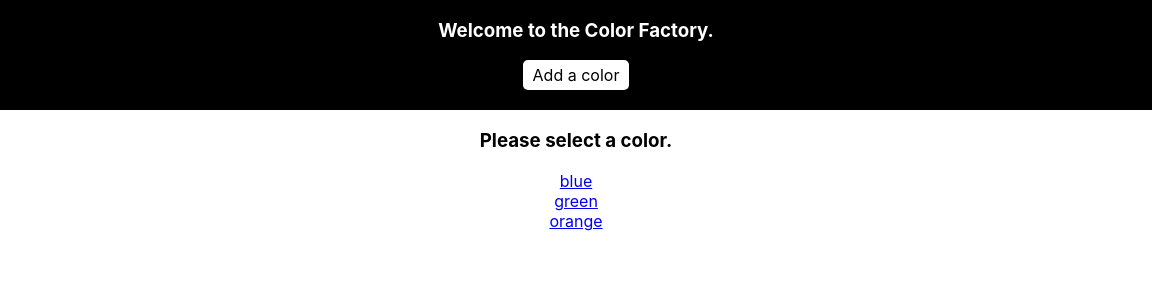
Test: if add a color link works
What coordinates should you click on to do the following:
click the link "Add a color"
I would click on:
 (576, 75)
Its box is [523, 60, 629, 90].
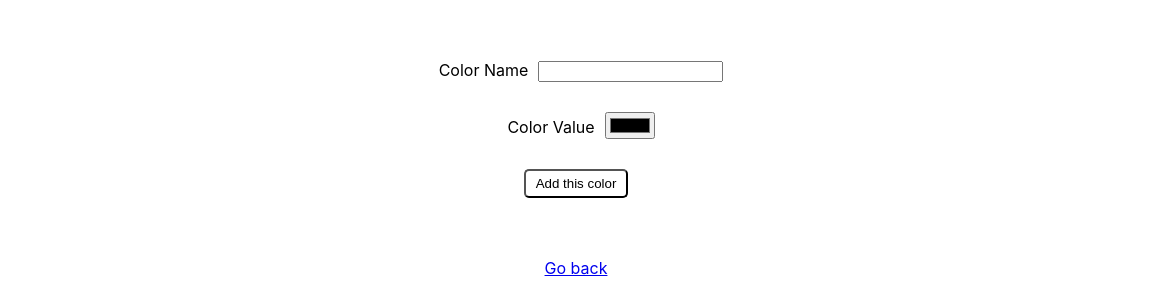
Now the heading "Welcome to the Color Factory." is gone
Now the heading "Please select a color." is gone
Now the text "Color Name" is shown, box [439, 60, 528, 80]
